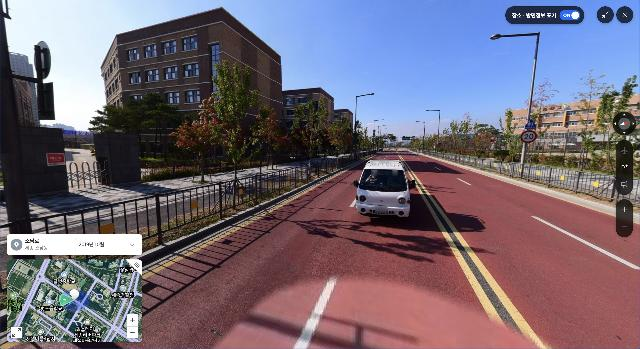other: (195, 59, 263, 209), (87, 91, 185, 170), (567, 68, 617, 180), (170, 93, 225, 183), (608, 75, 640, 177), (532, 77, 561, 174), (253, 103, 293, 170), (292, 98, 330, 165), (326, 115, 355, 162), (471, 121, 501, 161), (451, 112, 475, 159), (501, 106, 519, 165)
